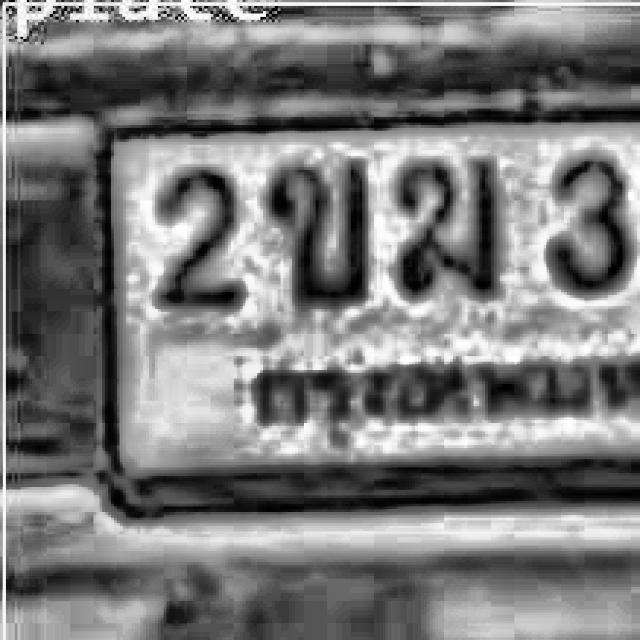license-plate: (87, 97, 640, 526)
